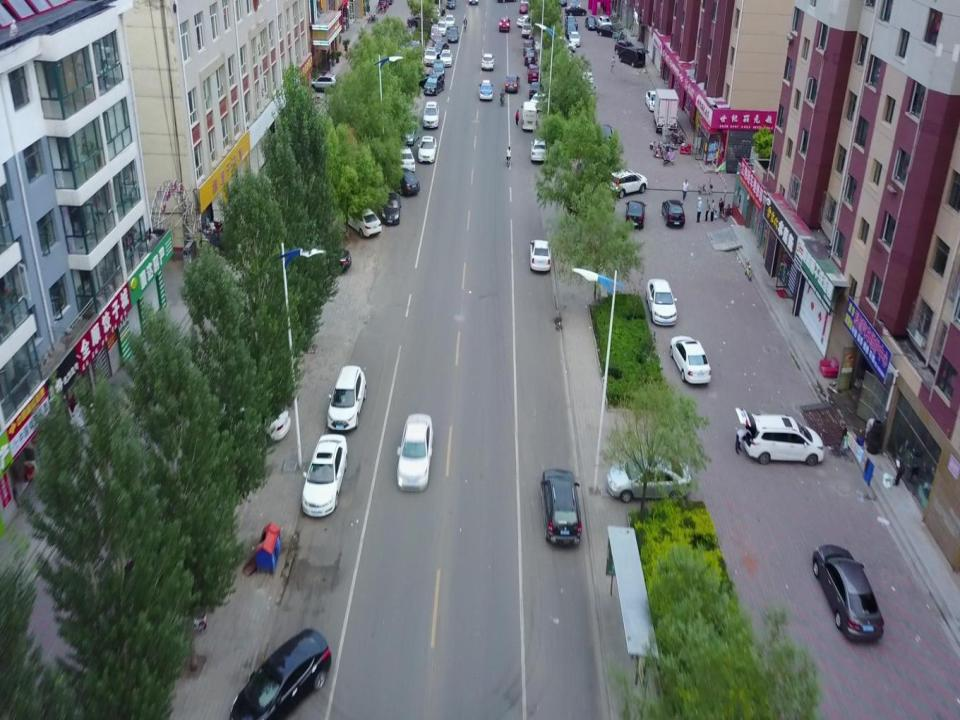car: (229, 628, 332, 720), (812, 544, 884, 641), (736, 406, 824, 466), (607, 454, 693, 502), (301, 433, 348, 518), (221, 396, 291, 445), (540, 468, 582, 546), (396, 413, 433, 491), (327, 365, 366, 430), (668, 334, 712, 385), (646, 278, 678, 326), (309, 245, 352, 274), (346, 205, 382, 237), (607, 169, 648, 197), (390, 167, 420, 195), (529, 239, 553, 272), (381, 192, 402, 226), (662, 198, 685, 226), (625, 200, 647, 229), (596, 124, 615, 156), (308, 74, 340, 92), (393, 146, 416, 171), (399, 118, 421, 144), (417, 135, 437, 163), (530, 138, 550, 164), (424, 73, 445, 96), (423, 101, 439, 129), (645, 90, 662, 113), (405, 13, 431, 27), (530, 92, 549, 111), (504, 74, 520, 94), (478, 80, 493, 101), (526, 64, 542, 82), (529, 81, 544, 98), (564, 5, 587, 16), (431, 58, 445, 76), (423, 46, 436, 65), (524, 49, 538, 66), (481, 52, 494, 70), (597, 25, 618, 36), (440, 49, 453, 66), (447, 27, 459, 44), (498, 16, 510, 32), (523, 40, 535, 56), (522, 22, 534, 38), (516, 15, 532, 27), (570, 31, 581, 48), (565, 15, 578, 29), (434, 42, 449, 54), (585, 15, 597, 30), (598, 15, 613, 27), (565, 24, 577, 38), (432, 32, 443, 46), (437, 19, 446, 36), (446, 13, 454, 28), (519, 3, 529, 14), (445, 0, 456, 9)
truck: (654, 88, 680, 132), (579, 70, 596, 99)
van: (618, 46, 650, 68), (521, 100, 537, 132)
